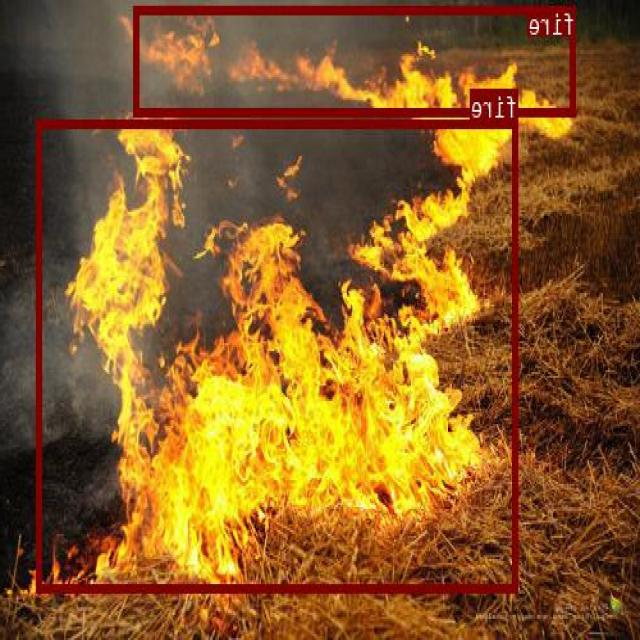fire: (38, 118, 519, 591), (135, 5, 577, 116)
